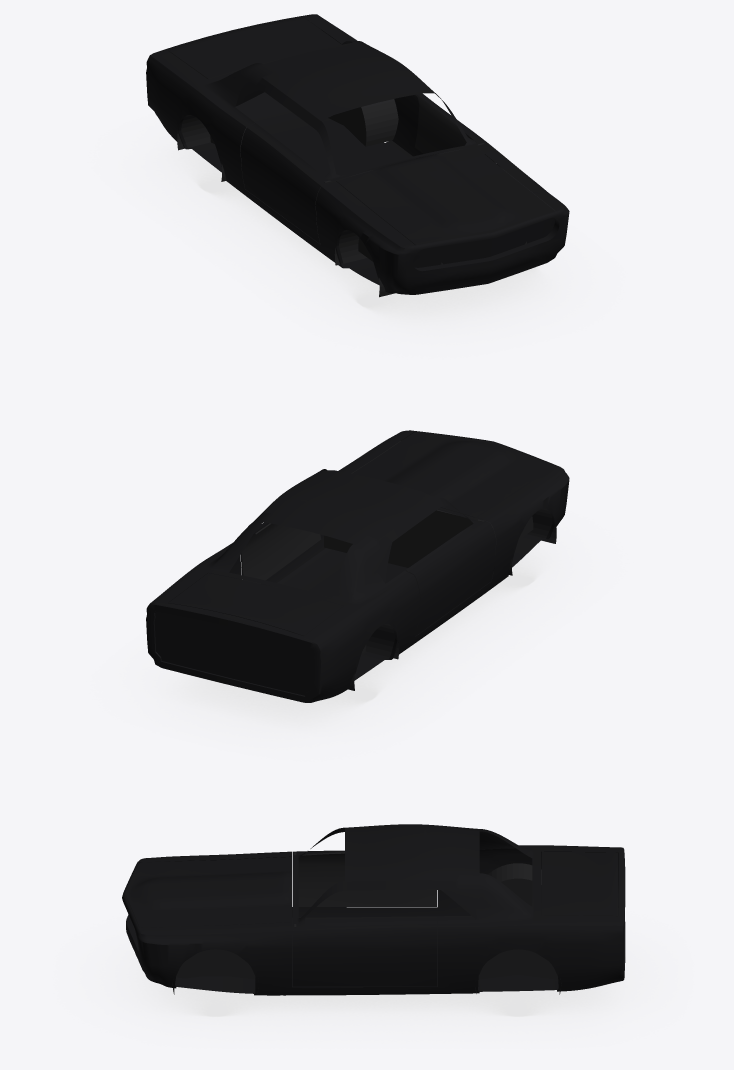
File: carroceria.glb
3 renders of one model, top to bottom at view 1: azimuth 30°, elevation 25°; view 2: azimuth 150°, elevation 25°; view 3: azimuth 270°, elevation 25°, orthographic. The views are drawn at different scales.
Visible parts, largest first — view 1: carroceria, piso_sombra, capot, puerta_der, baul, pasaruedas, puerta_izq; view 2: carroceria, piso_sombra, capot, puerta_der, baul, vano_motor, puerta_izq, pasaruedas; view 3: carroceria, piso_sombra, capot, puerta_izq, baul, puerta_der, pasaruedas, vano_motor.
Part boxes in pixels (bbox=[...]): carroceria: bbox=[146, 14, 569, 294]; piso_sombra: bbox=[147, 137, 567, 334]; capot: bbox=[336, 147, 554, 245]; puerta_der: bbox=[240, 123, 341, 243]; baul: bbox=[169, 18, 341, 79]; pasaruedas: bbox=[177, 99, 398, 297]; puerta_izq: bbox=[414, 93, 495, 163]; carroceria: bbox=[146, 430, 569, 702]; piso_sombra: bbox=[148, 541, 568, 737]; capot: bbox=[352, 431, 554, 517]; puerta_der: bbox=[405, 516, 495, 635]; baul: bbox=[169, 573, 343, 635]; vano_motor: bbox=[324, 441, 533, 567]; puerta_izq: bbox=[240, 522, 321, 583]; pasaruedas: bbox=[348, 467, 556, 690]; carroceria: bbox=[122, 824, 625, 995]; piso_sombra: bbox=[105, 942, 653, 1030]; capot: bbox=[125, 857, 291, 927]; puerta_izq: bbox=[292, 919, 436, 986]; baul: bbox=[542, 851, 617, 916]; puerta_der: bbox=[292, 850, 436, 906]; pasaruedas: bbox=[172, 863, 561, 994]; vano_motor: bbox=[176, 852, 296, 987].
Size of what is drawn, in the model's own units: 3.4 by 1.29 by 6.4.
Materials: 3 (1 with a texture image).
